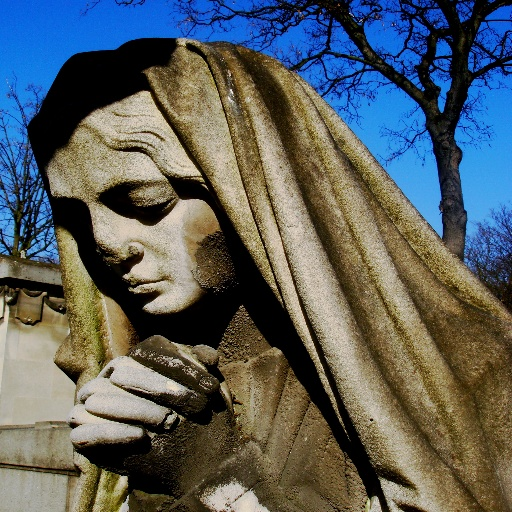hand: (62, 338, 250, 499), (68, 333, 219, 476)
